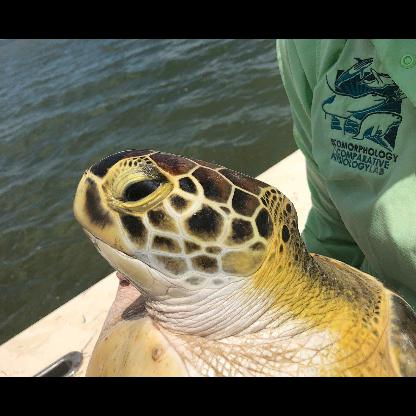turtle: (75, 149, 415, 375)
